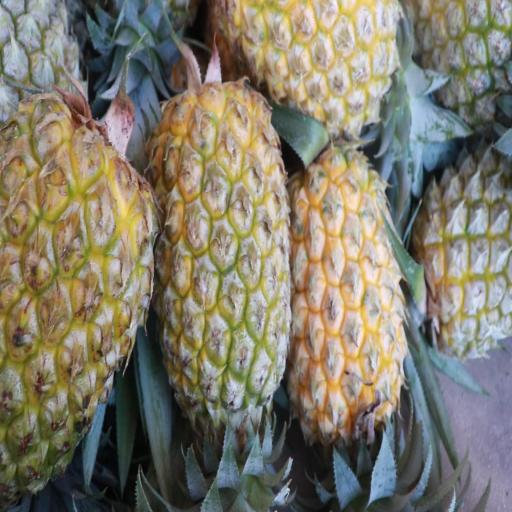------------------------------: (414, 150, 512, 355)
Pineapple - v8 v1: (0, 99, 155, 494), (156, 94, 290, 437), (290, 155, 405, 434), (224, 0, 402, 138)
